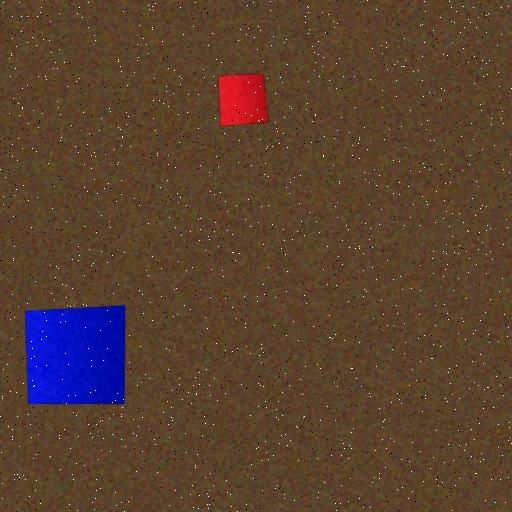BLUE_SQUARE: (25, 305, 126, 405)
RED_SQUARE: (218, 73, 270, 127)
